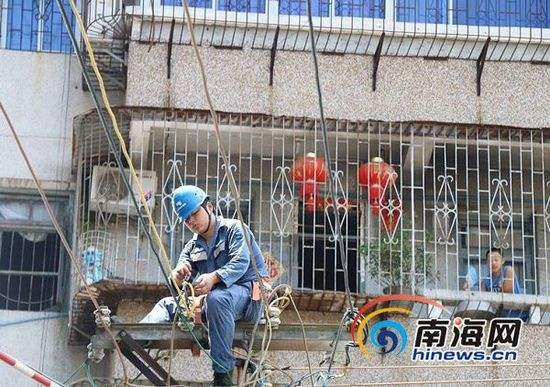blue: (171, 184, 212, 236)
none: (485, 245, 503, 273)
